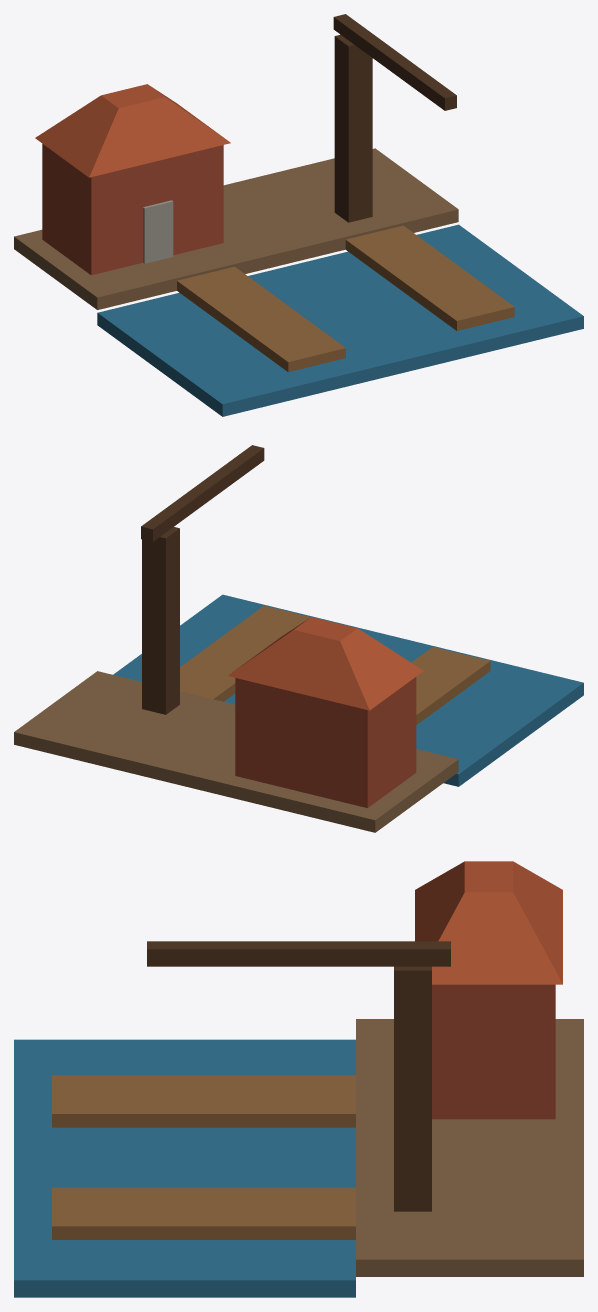
The model's file is bld_special_port_a04_lod2.glb.
The picture shows the model from 3 angles, top to bottom: view 1: azimuth 30°, elevation 25°; view 2: azimuth 150°, elevation 25°; view 3: azimuth 270°, elevation 25°; orthographic projection. The views are drawn at different scales.
Visible parts, largest first — view 1: body, crane; view 2: body, crane; view 3: body, crane.
Part boxes in pixels (box(x1,y1,x2,y2)): body: box(14, 84, 583, 416); crane: box(333, 14, 456, 222); body: box(14, 594, 583, 832); crane: box(141, 445, 264, 714); body: box(14, 861, 583, 1297); crane: box(147, 941, 450, 1211).
Bounding box in the file's own units: 15 × 8.6 × 15.
